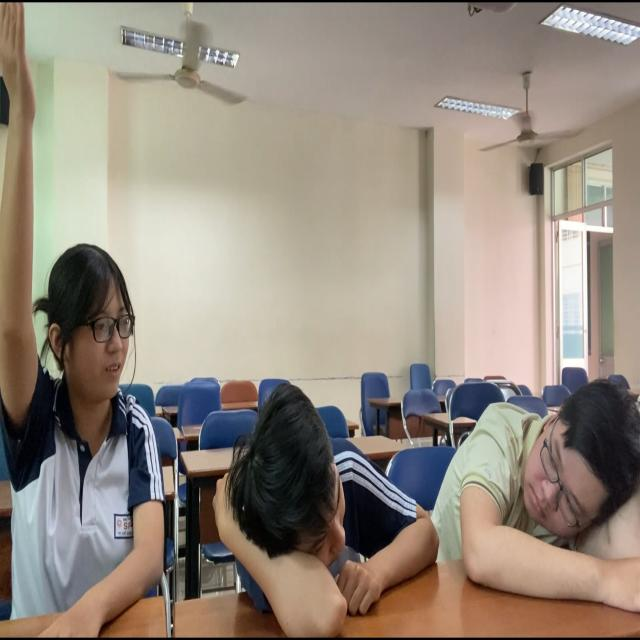raise_hand: (1, 18, 141, 640)
sleep: (213, 370, 441, 630)
